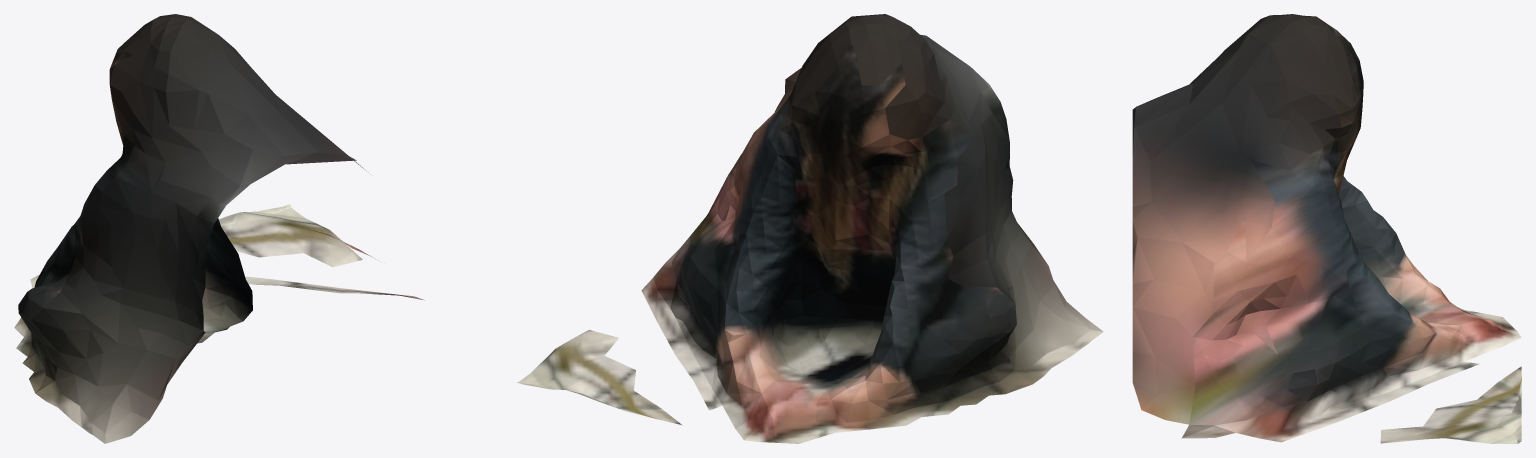
3 renders of one model, left to right at view 1: azimuth 30°, elevation 25°; view 2: azimuth 150°, elevation 25°; view 3: azimuth 270°, elevation 25°, orthographic. The views are drawn at different scales.
Size of the model in its own units: 0.8896 by 0.7317 by 0.8117.
Materials: 1 (1 with a texture image).
